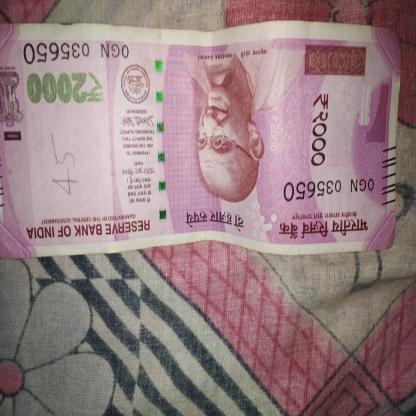New2000Front: (0, 24, 394, 252)
